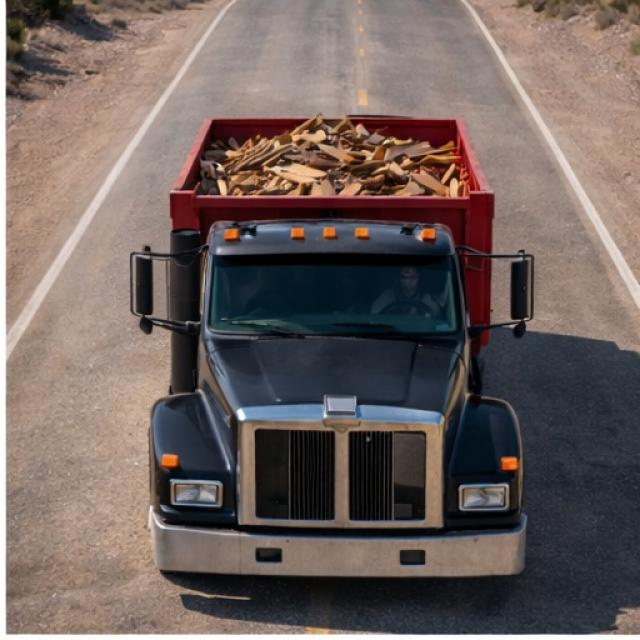Box: (177, 114, 498, 201)
Truck: (119, 90, 537, 602)
